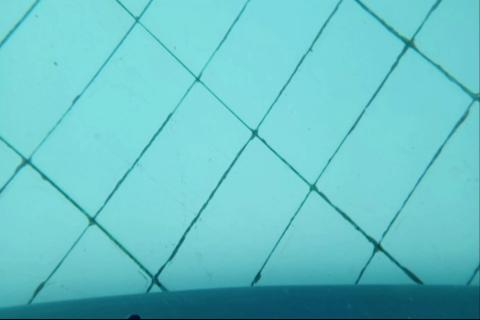kebocoran: (126, 312, 143, 320)
